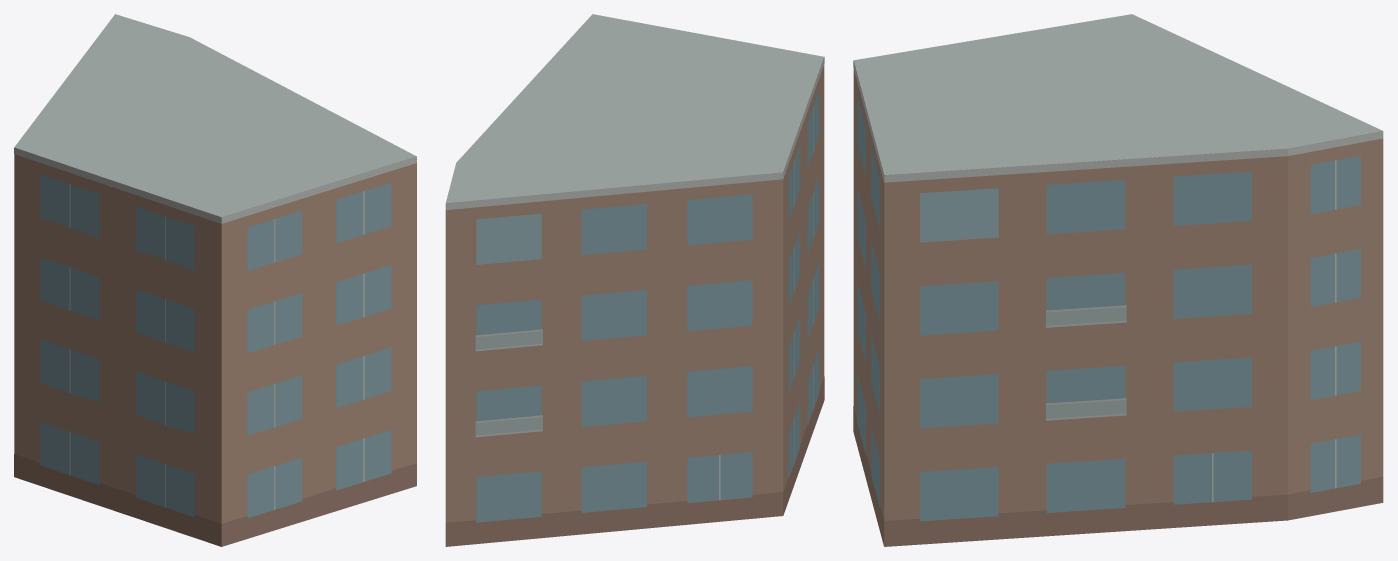
Rendered from survey-upis-32464503.glb.
3 views of the same model, side by side, from view 1: azimuth 30°, elevation 25°; view 2: azimuth 150°, elevation 25°; view 3: azimuth 270°, elevation 25° (orthographic). The views are drawn at different scales.
Parts seen in each view (by area): view 1: survey-upis-32464503.tmp; view 2: survey-upis-32464503.tmp; view 3: survey-upis-32464503.tmp.
Boxes of the visible parts, x1,y1,x2,y2 form: survey-upis-32464503.tmp: (14, 14, 416, 546); survey-upis-32464503.tmp: (445, 14, 824, 546); survey-upis-32464503.tmp: (853, 14, 1383, 546).
Bounding box in the file's own units: 11.26 × 12.1 × 15.64.
